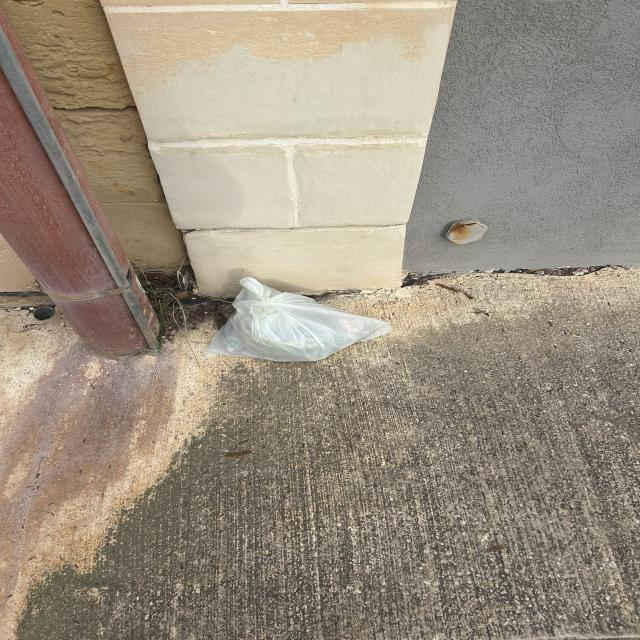white_bag: (202, 275, 396, 365)
